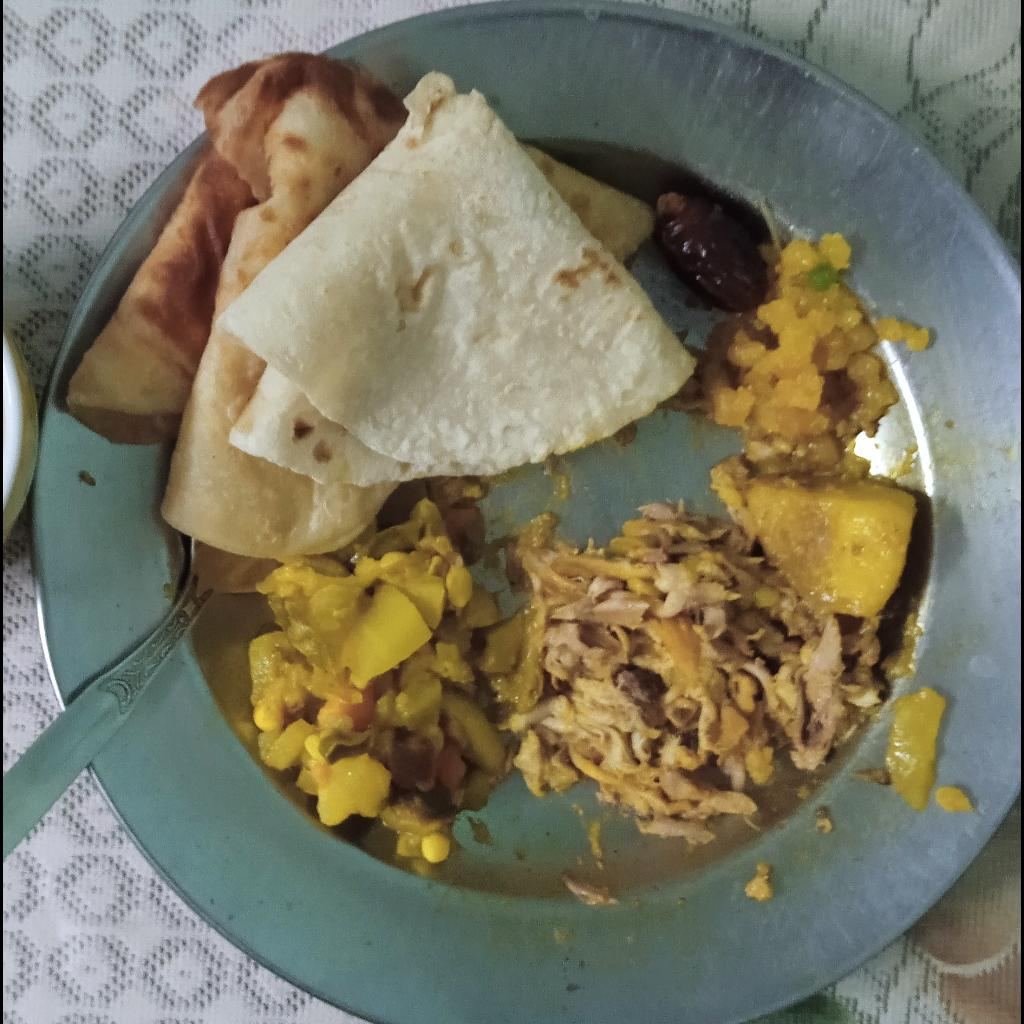burinda: (701, 232, 928, 517)
chicken: (504, 497, 886, 845)
dates: (654, 191, 767, 313)
potato: (751, 472, 917, 619), (888, 686, 945, 810)
ruti: (68, 50, 696, 564)
vegetable: (252, 484, 541, 880)
